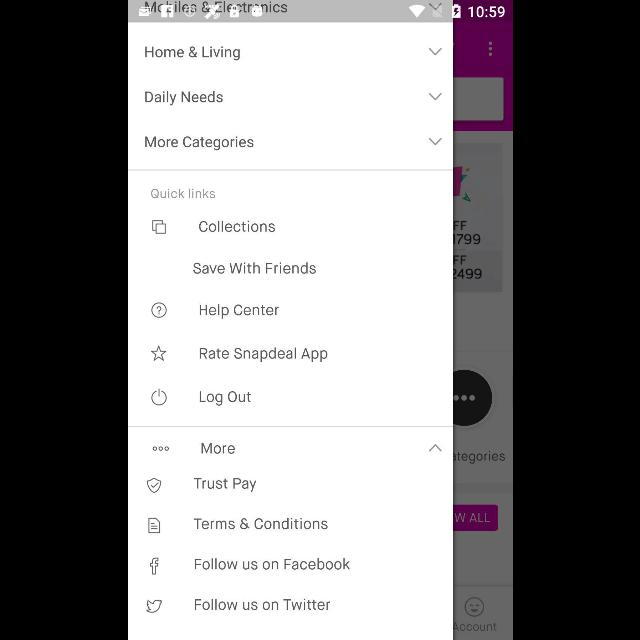icon: (150, 388, 166, 406), (150, 302, 166, 318), (150, 345, 166, 361), (151, 220, 165, 234), (148, 517, 160, 533), (146, 600, 162, 612), (150, 558, 158, 574), (428, 444, 442, 452), (428, 138, 442, 146), (428, 93, 442, 101), (428, 48, 442, 56), (152, 446, 168, 452)
image: (146, 478, 160, 492)
panel: (128, 22, 452, 640)
text: (194, 558, 350, 570), (199, 348, 327, 362), (194, 598, 330, 610), (193, 518, 327, 530), (144, 46, 240, 62), (144, 136, 253, 150), (192, 262, 316, 274), (144, 90, 222, 106), (200, 305, 278, 319), (198, 221, 274, 233), (192, 478, 255, 492), (199, 390, 251, 406), (150, 189, 214, 199), (200, 444, 234, 454)
uppertaskbar: (128, 1, 512, 23)
